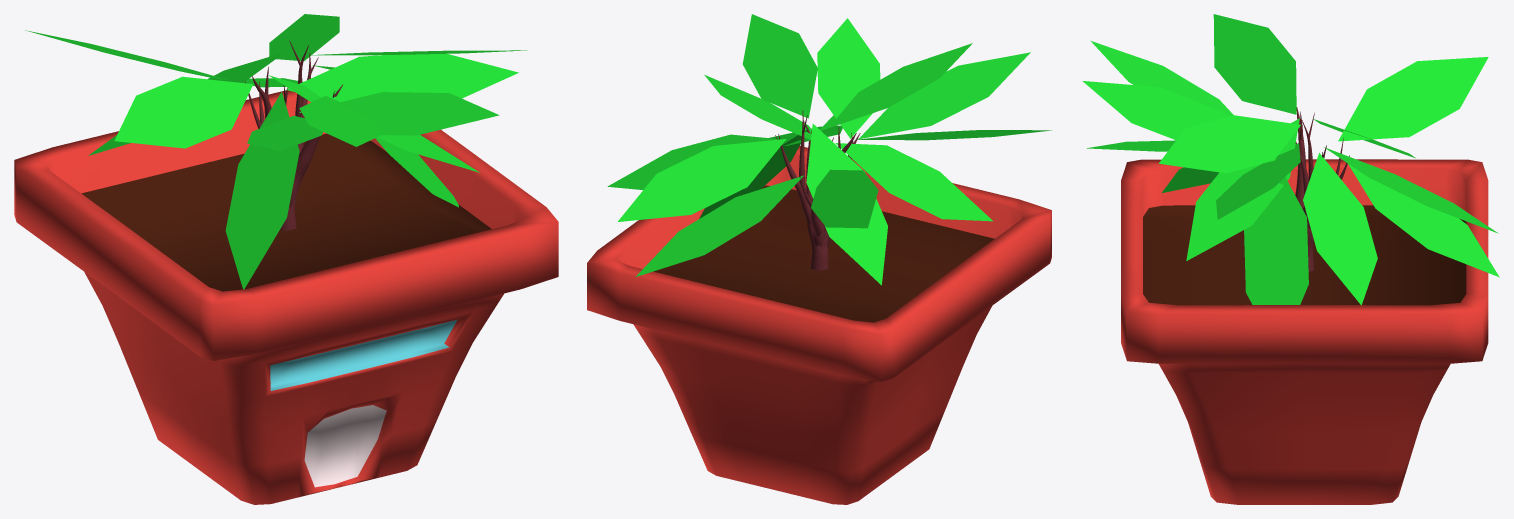
Rendered from CasaFresa.fbx.
3 views of the same model, side by side, from view 1: azimuth 30°, elevation 25°; view 2: azimuth 150°, elevation 25°; view 3: azimuth 270°, elevation 25° (orthographic). The views are drawn at different scales.
Visible parts, largest first — view 1: Cube, leaves, tree; view 2: Cube, leaves, tree; view 3: Cube, leaves, tree.
Boxes of the visible parts, bbox=[...] form: Cube: bbox=[14, 90, 558, 504]; leaves: bbox=[25, 14, 527, 289]; tree: bbox=[245, 40, 342, 230]; Cube: bbox=[587, 146, 1051, 504]; leaves: bbox=[607, 14, 1051, 285]; tree: bbox=[775, 110, 860, 270]; Cube: bbox=[1121, 159, 1488, 504]; leaves: bbox=[1082, 14, 1499, 305]; tree: bbox=[1295, 107, 1349, 271].
Bounding box in the file's own units: 304 × 280 × 280.
